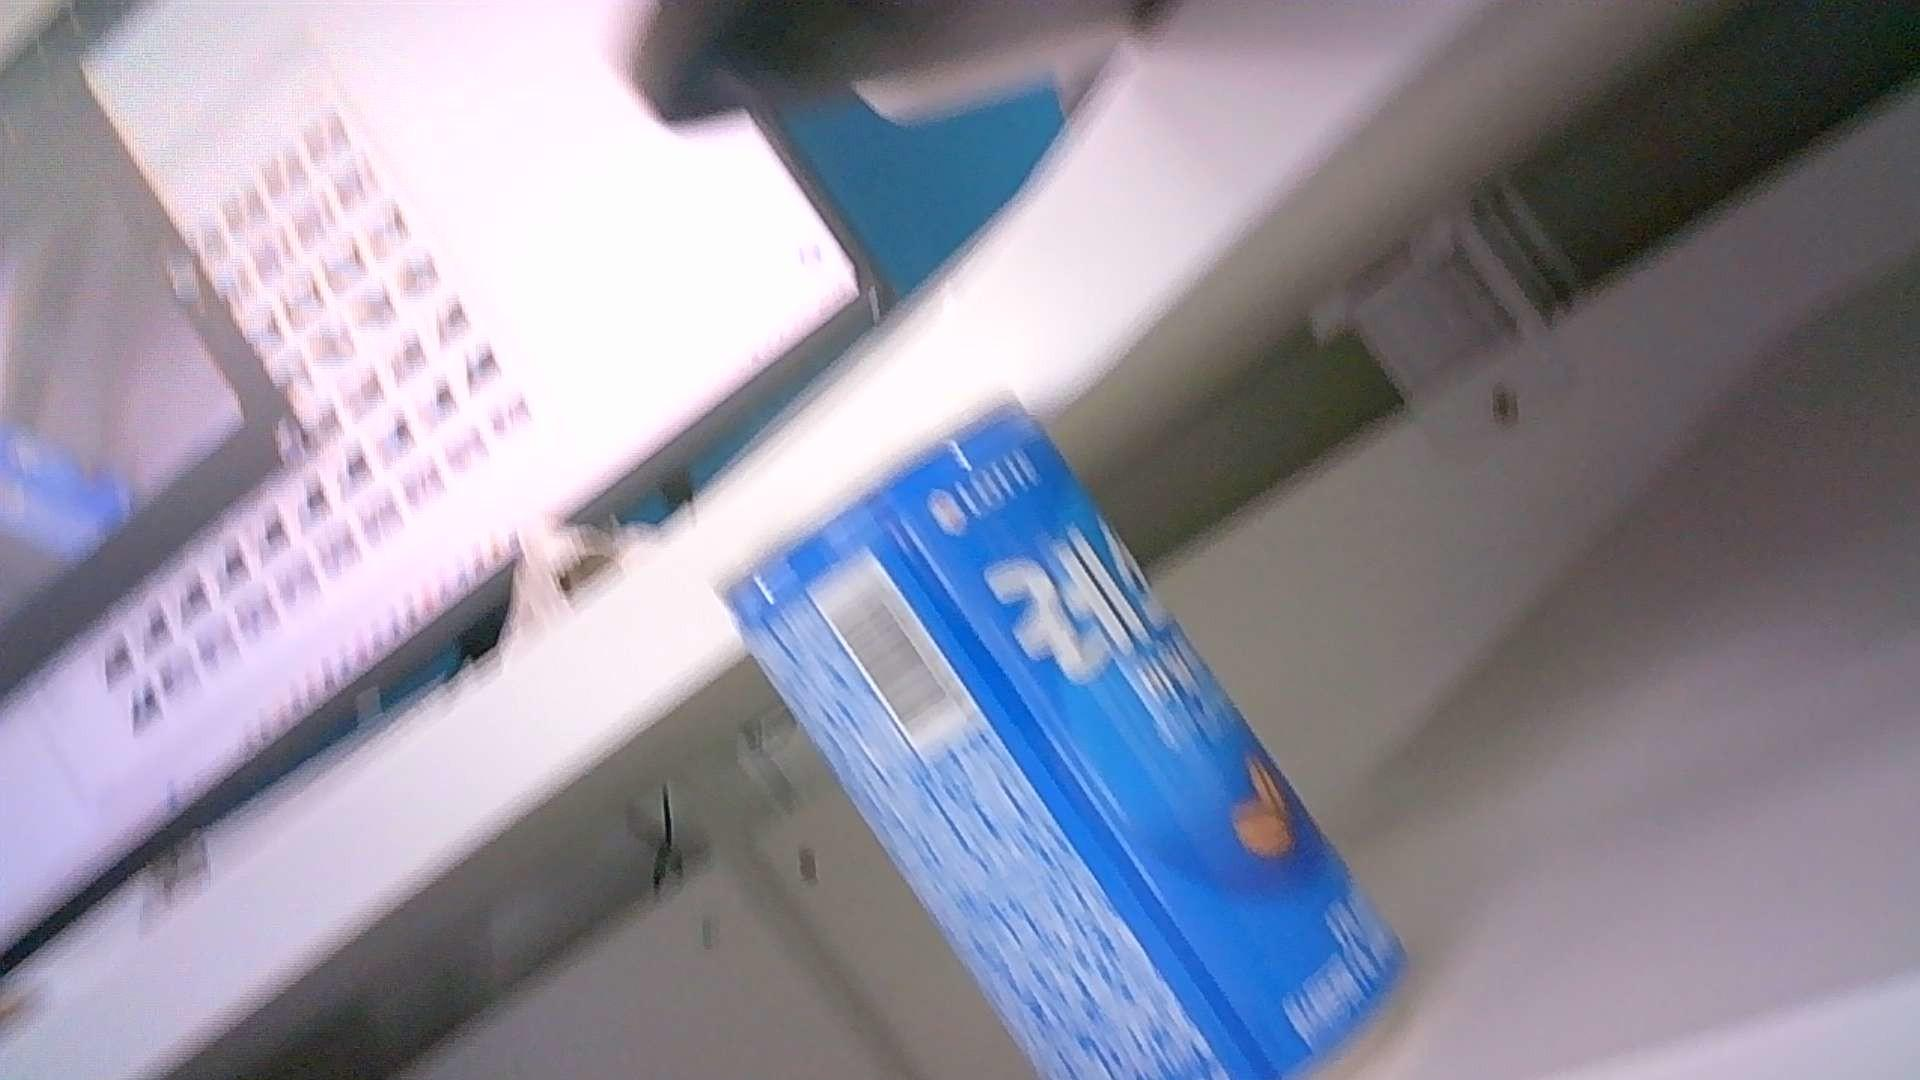letsbe: (715, 389, 1412, 1080)
